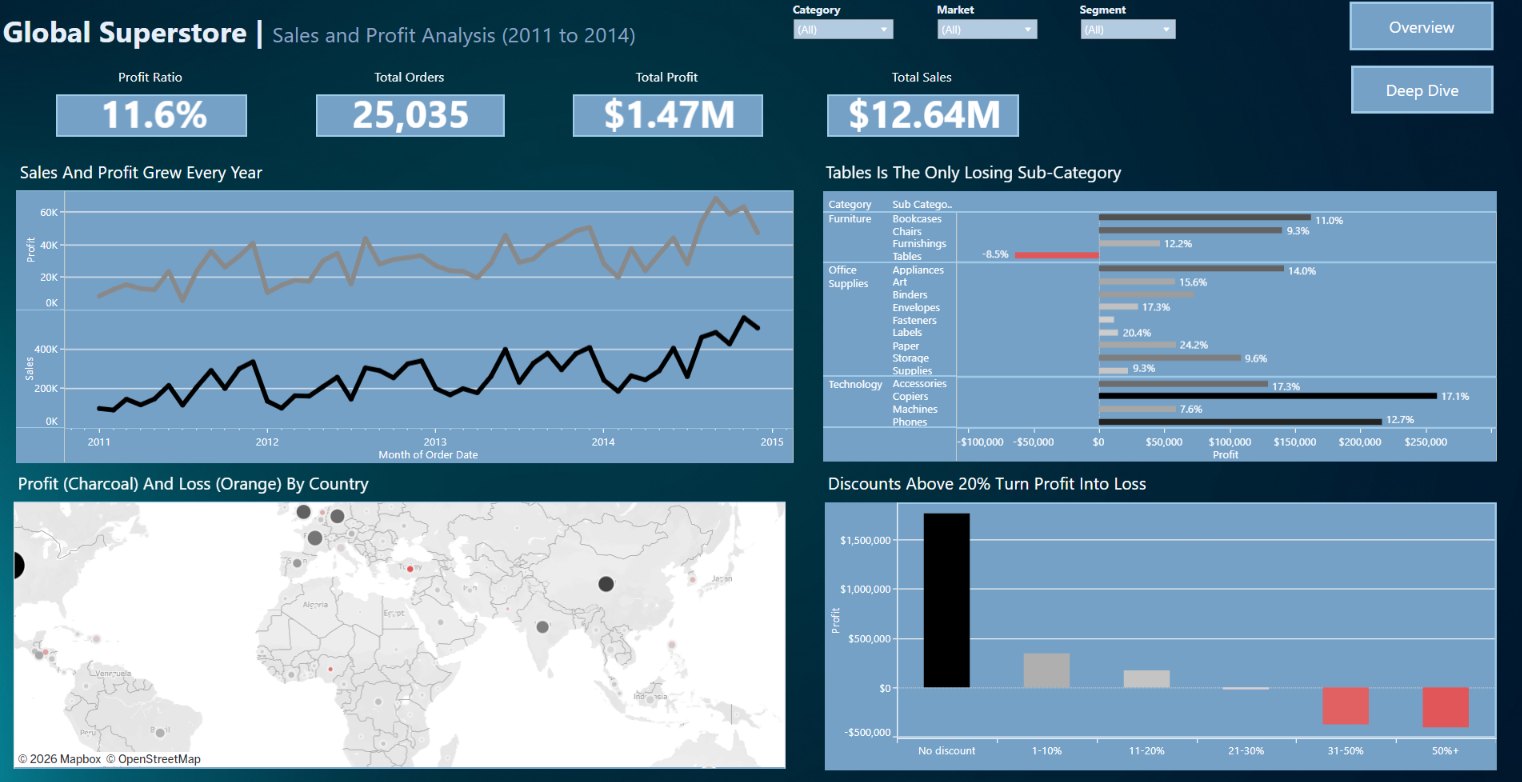

This screenshot's page, from the dashboard's own definition file:
{"tool":"tableau","page":{"name":"Overview","canvas":[1000,1000],"units":"permille","ordinal":1},"visuals":[{"type":"image","param":"Image/watermark-removed-Gemini_Generated_Image_pfxp7upfxp7upfxp.png","box":[1.2,0,996.9,998.7]},{"type":"dashboard-object","box":[883.5,6.4,93.7,61.5]},{"type":"filter","title":"Category","param":"[federated.02n3qql18poff212zbrag11mg8hr].[none:category:nk]","box":[520.9,7.7,66.3,68]},{"type":"filter","title":"Category","param":"[federated.02n3qql18poff212zbrag11mg8hr].[none:market:nk]","box":[614.6,7.7,66.3,68]},{"type":"filter","title":"Category","param":"[federated.02n3qql18poff212zbrag11mg8hr].[none:segment:nk]","box":[707.5,7.7,63.2,68]},{"type":"title","box":[6.8,9,494,68]},{"type":"worksheet","title":"KPI Margin","mark":"Automatic","box":[40.4,82,124.9,94.9]},{"type":"worksheet","title":"KPI Orders","mark":"Automatic","box":[209.4,82,124.1,94.9]},{"type":"worksheet","title":"KPI Profit","mark":"Automatic","box":[377,82,124.1,94.9]},{"type":"worksheet","title":"KPI Sales","mark":"Automatic","box":[542.3,82,125.7,94.9]},{"type":"dashboard-object","box":[884.2,87.2,92.9,61.5]},{"type":"worksheet","title":"Trend","mark":"Automatic","rows":["profit","sales"],"cols":["order_date"],"box":[15.2,201.3,506.5,389.7]},{"type":"worksheet","title":"Category","mark":"Automatic","rows":["category","sub_category"],"cols":["profit"],"box":[540,201.3,439.4,387.2]},{"type":"worksheet","title":"Map","mark":"Automatic","box":[13.5,594.9,503,382.1]},{"type":"worksheet","title":"Discount Band","mark":"Automatic","rows":["profit"],"cols":["discount_band"],"box":[540.8,594.9,438.7,384.6]}]}

Visuals, with their boxes on the dashboard's canvas, which has no fixed pixel size, in thousandths of its width and height (x1, y1, x2, y2). These are canvas units, not pixel positions in the 1522x782 screenshot, which may show the page scaled, cropped or inside an application window:
image: bbox=(1, 0, 998, 999)
dashboard-object: bbox=(884, 6, 977, 68)
"Category" filter: bbox=(521, 8, 587, 76)
"Category" filter: bbox=(615, 8, 681, 76)
"Category" filter: bbox=(708, 8, 771, 76)
title: bbox=(7, 9, 501, 77)
"KPI Margin" worksheet: bbox=(40, 82, 165, 177)
"KPI Orders" worksheet: bbox=(209, 82, 334, 177)
"KPI Profit" worksheet: bbox=(377, 82, 501, 177)
"KPI Sales" worksheet: bbox=(542, 82, 668, 177)
dashboard-object: bbox=(884, 87, 977, 149)
"Trend" worksheet: bbox=(15, 201, 522, 591)
"Category" worksheet: bbox=(540, 201, 979, 588)
"Map" worksheet: bbox=(14, 595, 516, 977)
"Discount Band" worksheet: bbox=(541, 595, 980, 980)
